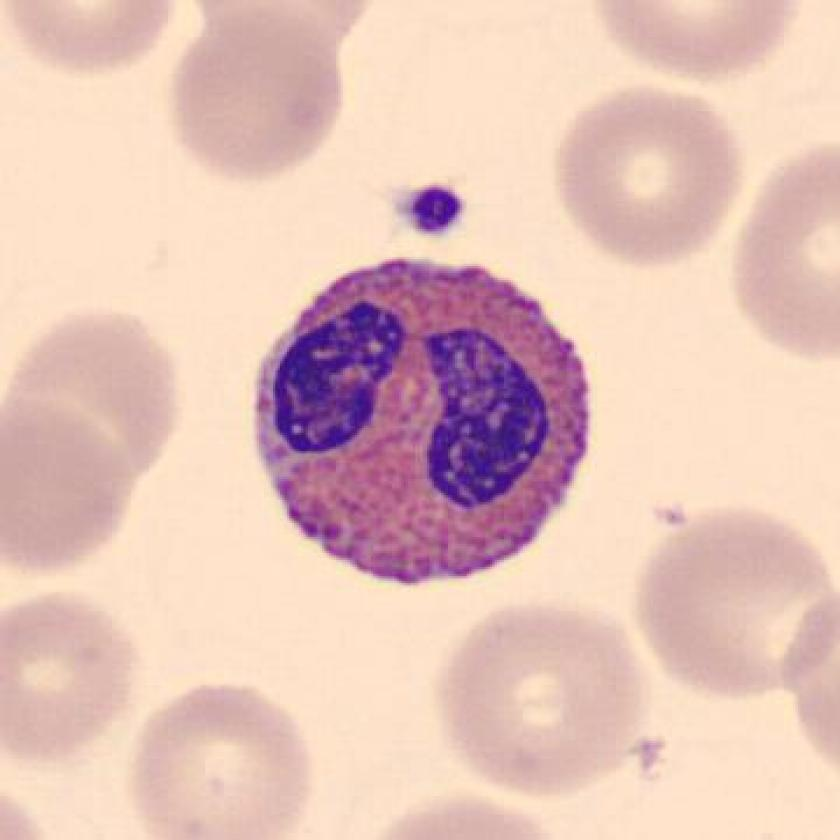eosinophil: (237, 246, 610, 603)
